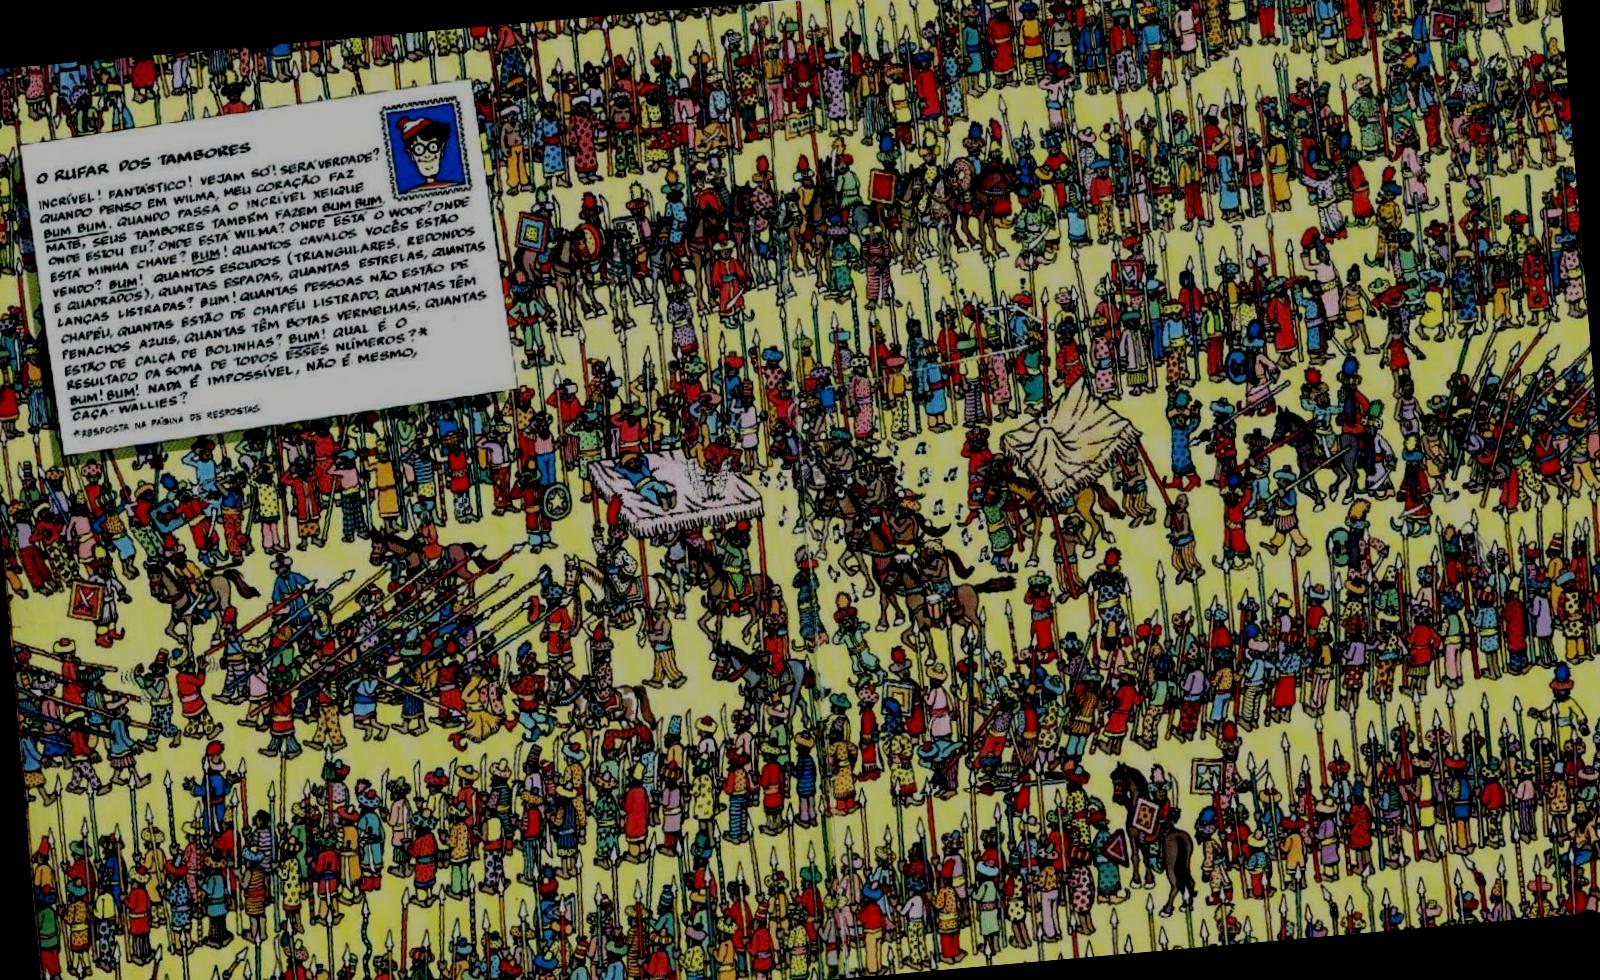waldo: (394, 112, 454, 179), (687, 164, 706, 190)
